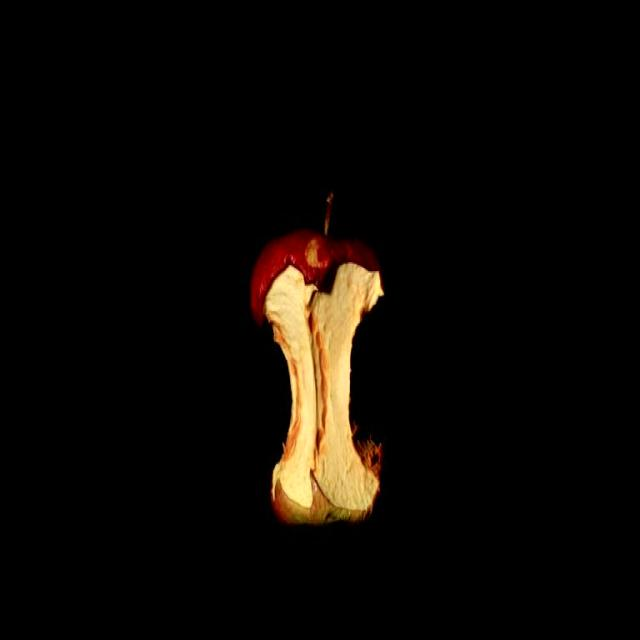apple_fruit: (248, 214, 391, 542)
